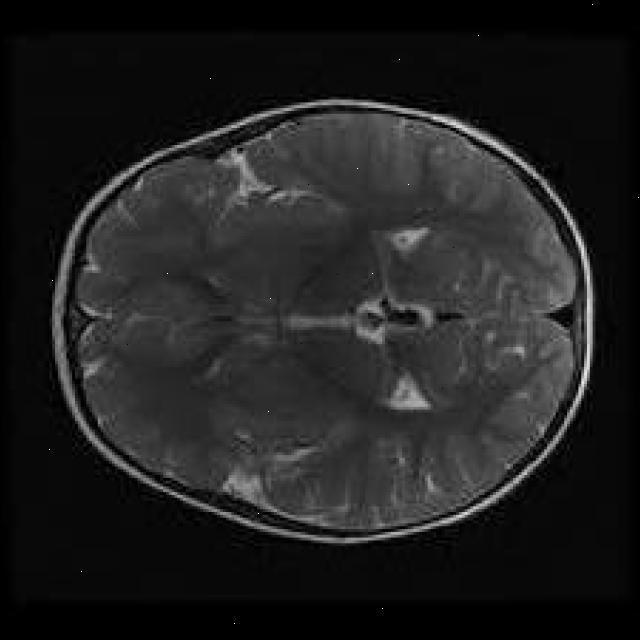No_Tumor: (53, 100, 593, 543)
